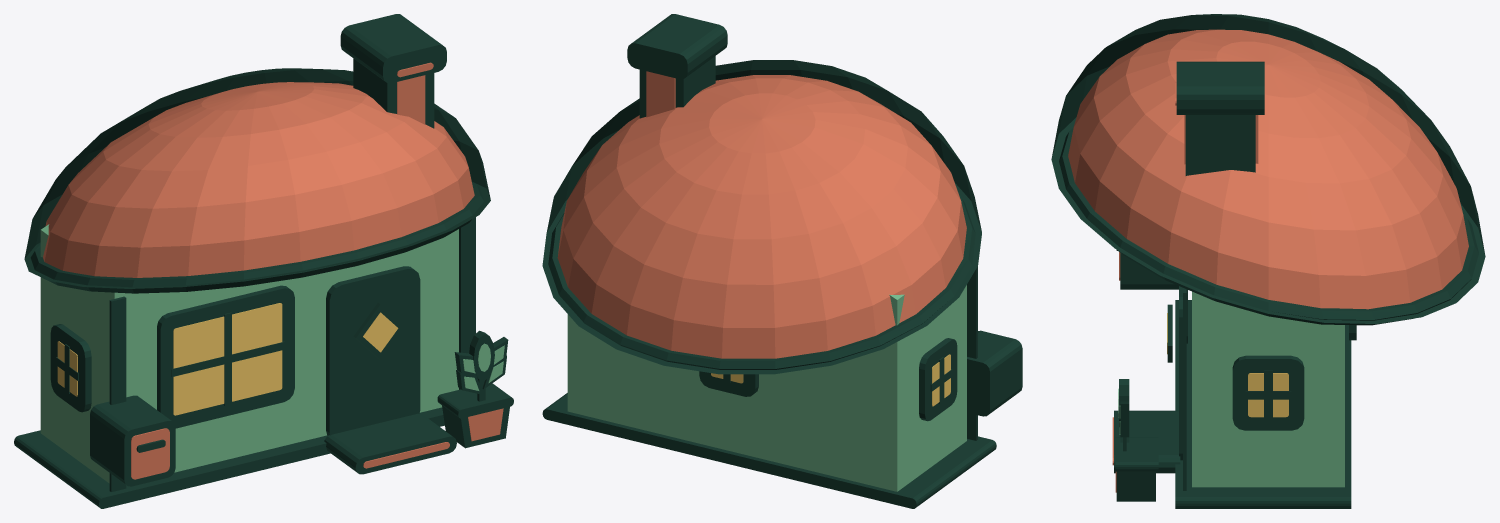
3 views of the same model, side by side, from view 1: azimuth 30°, elevation 25°; view 2: azimuth 150°, elevation 25°; view 3: azimuth 270°, elevation 25° (orthographic). The views are drawn at different scales.
Parts seen in each view (by area): view 1: Rent Free house; view 2: Rent Free house; view 3: Rent Free house.
Boxes of the visible parts, <box> form: Rent Free house: <box>14,14,513,508</box>; Rent Free house: <box>542,14,1022,508</box>; Rent Free house: <box>1051,14,1485,508</box>.
Size of the model in its own units: 1.12 by 0.9771 by 0.9714.
